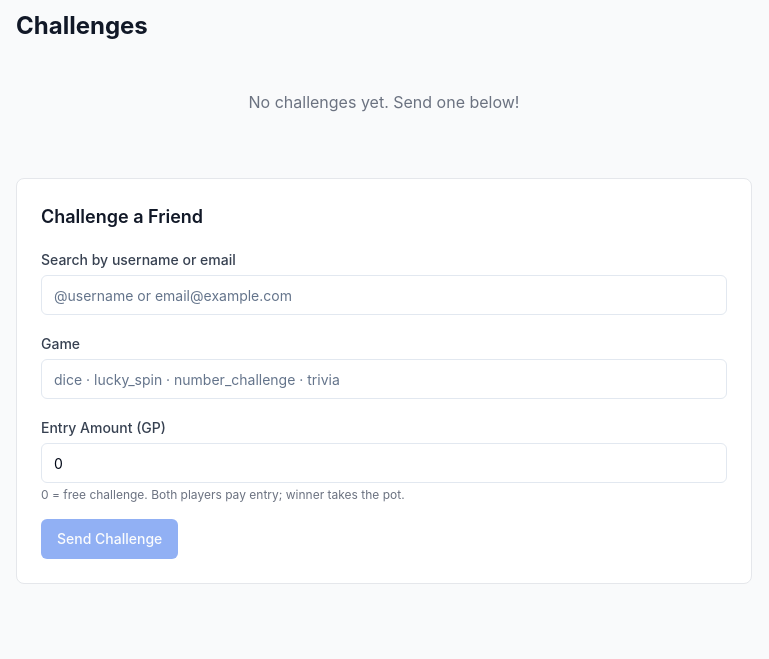
Test: ChallengesPage — privacy › renders only avatar/displayName/@username — never the id, and never echoes the searched email
The image size is (769, 659).
Expected: the heading "Challenge a Friend" is shown, [41,206,203,227]
Type "petestar26@example.com" into the field labelled "Search by username or email" at (384, 295), box [41,275,727,315]
Wait 300 ms
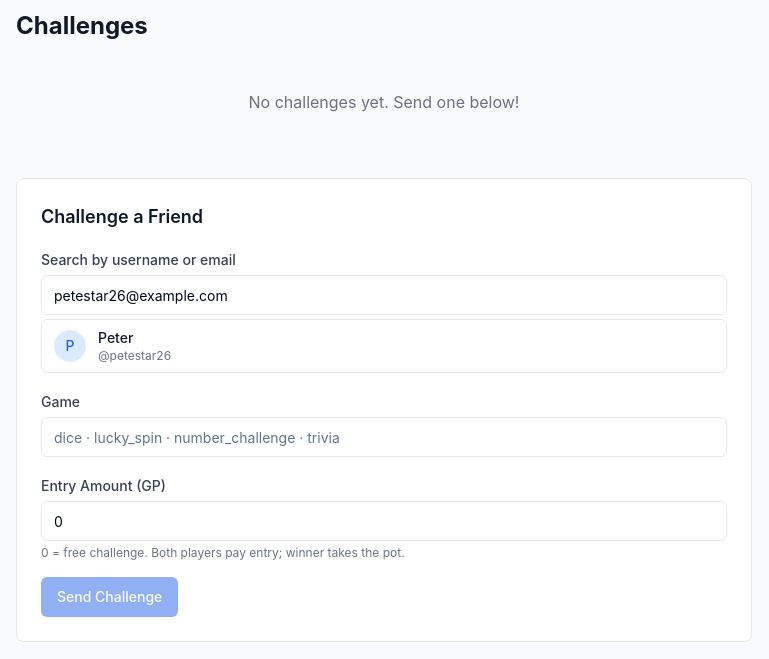
Expected: the text "Peter" is shown, [98,329,133,346]
Expected: the text "@petestar26" is shown, [98,348,171,363]
